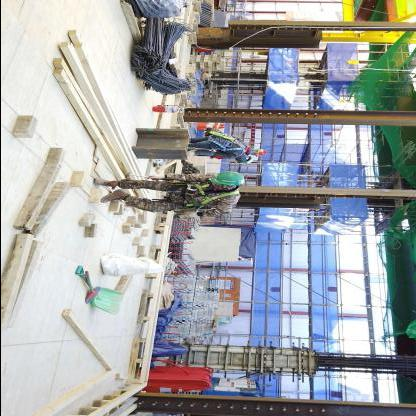Helmet: (203, 169, 247, 189)
safety-shoe: (97, 189, 123, 208), (89, 176, 117, 188)
